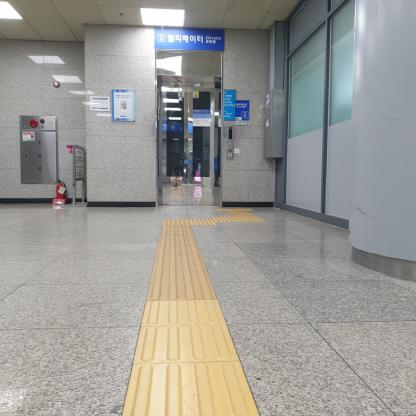go: (122, 361, 261, 416), (132, 325, 239, 364), (140, 299, 227, 327), (146, 281, 218, 301), (149, 268, 211, 283), (153, 258, 206, 269)
